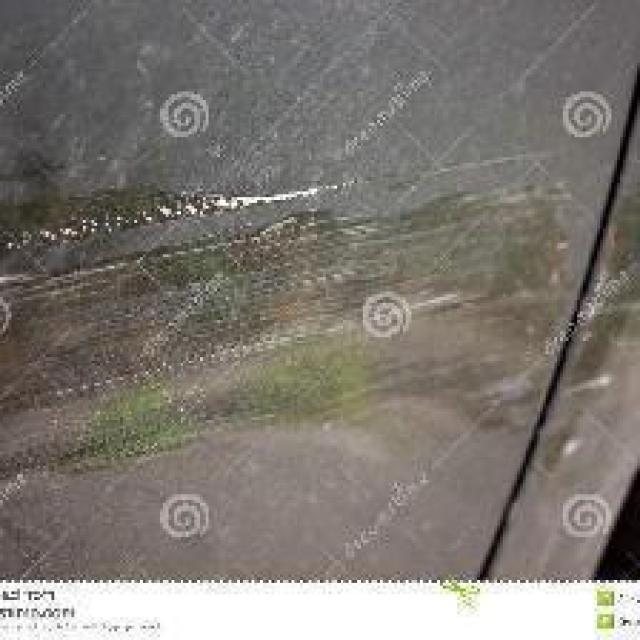damaged: (0, 145, 571, 485)
